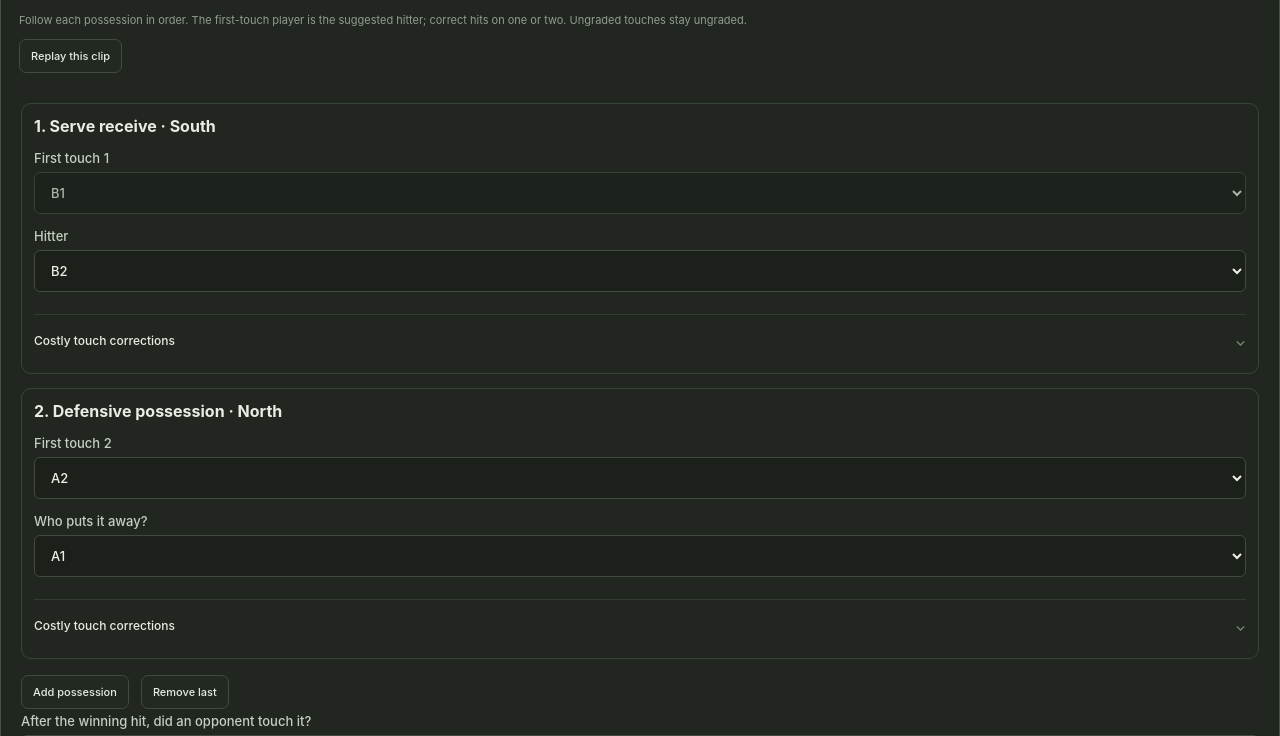
Test case: reopening a quick log preserves selections, corrections, and entry undo
The image size is (1280, 736).
Expected: the dropdown named "Hitter 1" shows "B2", [34,250,1246,292]
Expected: the dropdown named "Hitter 2" shows "A1", [34,536,1246,578]
Click the button "Add possession" at {"x": 75, "y": 692}, box [21,676,129,710]
(page scrolled)
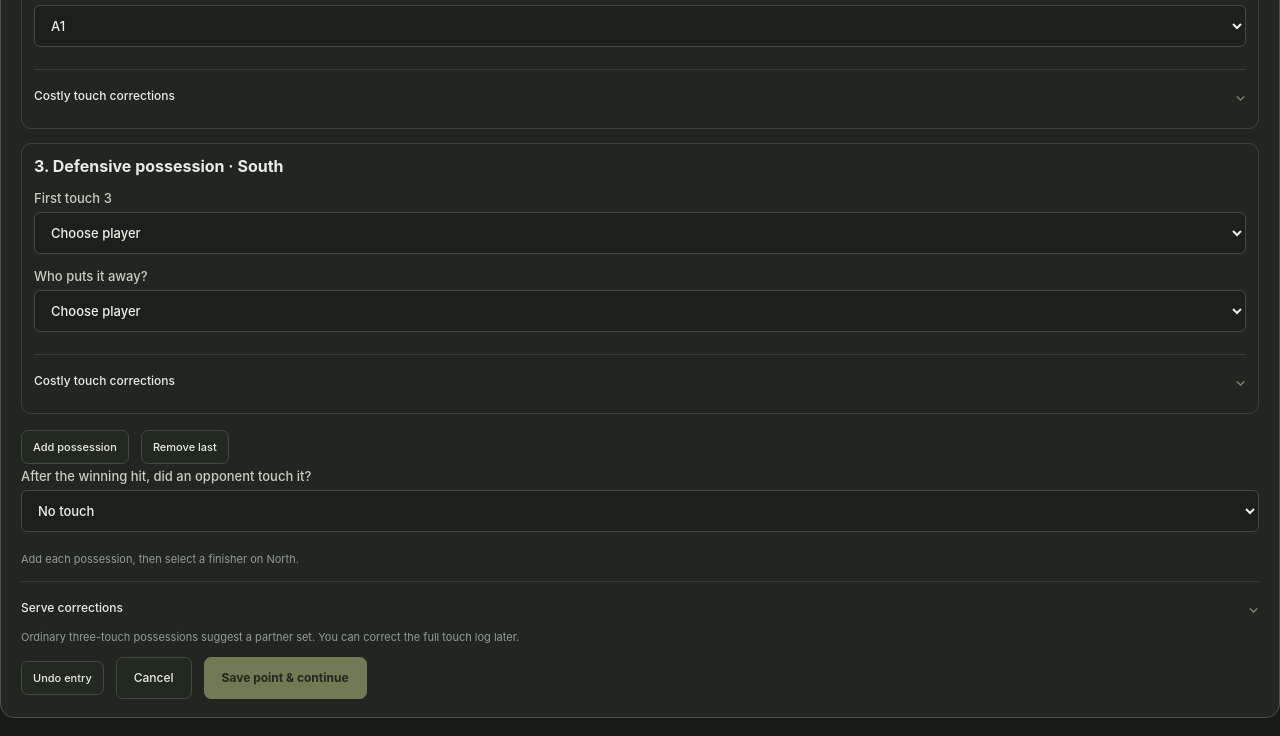
Result: the dropdown labelled "First touch 3" is shown at [34,212,1246,254]
Result: the button "Save point & continue" is disabled at [204,657,367,699]
Click the button "Undo entry" at {"x": 62, "y": 678}, box [21,661,104,695]
(page scrolled)
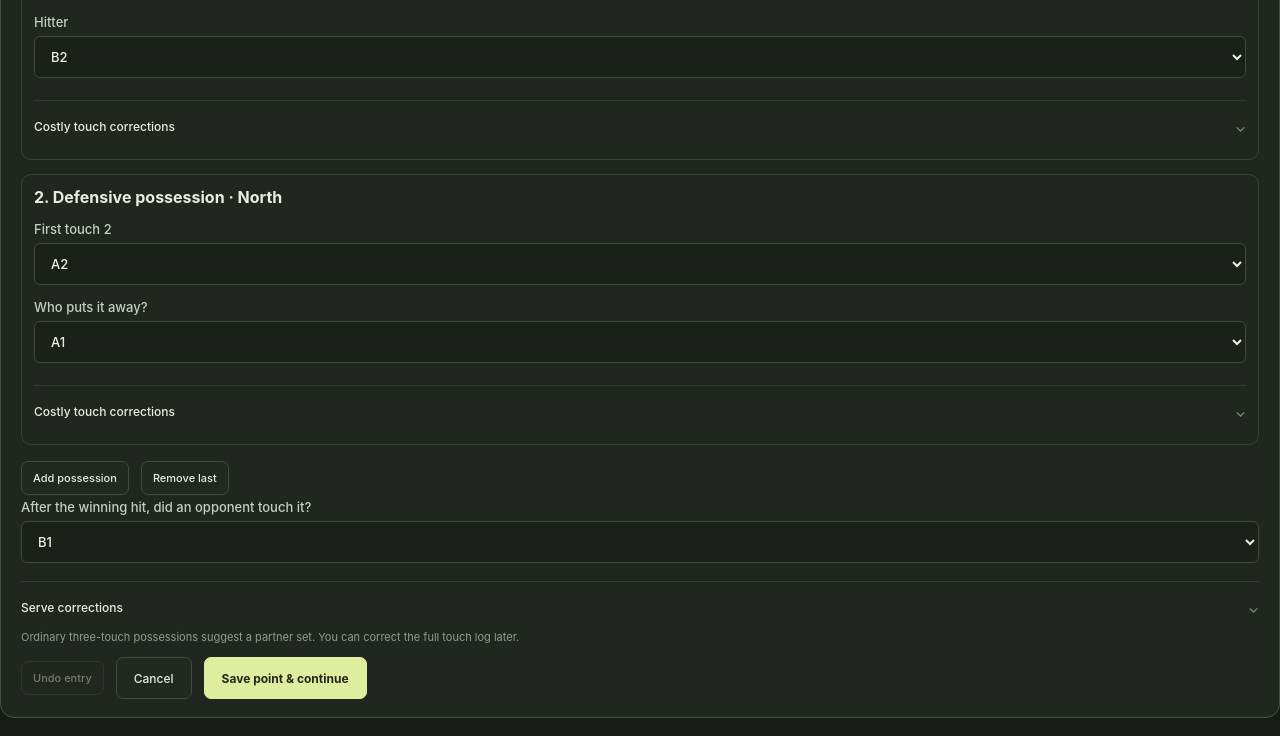
Result: the label labelled "First touch 3" is gone
Result: the dropdown named "Final defender" shows "B1" at [21,522,1259,564]
